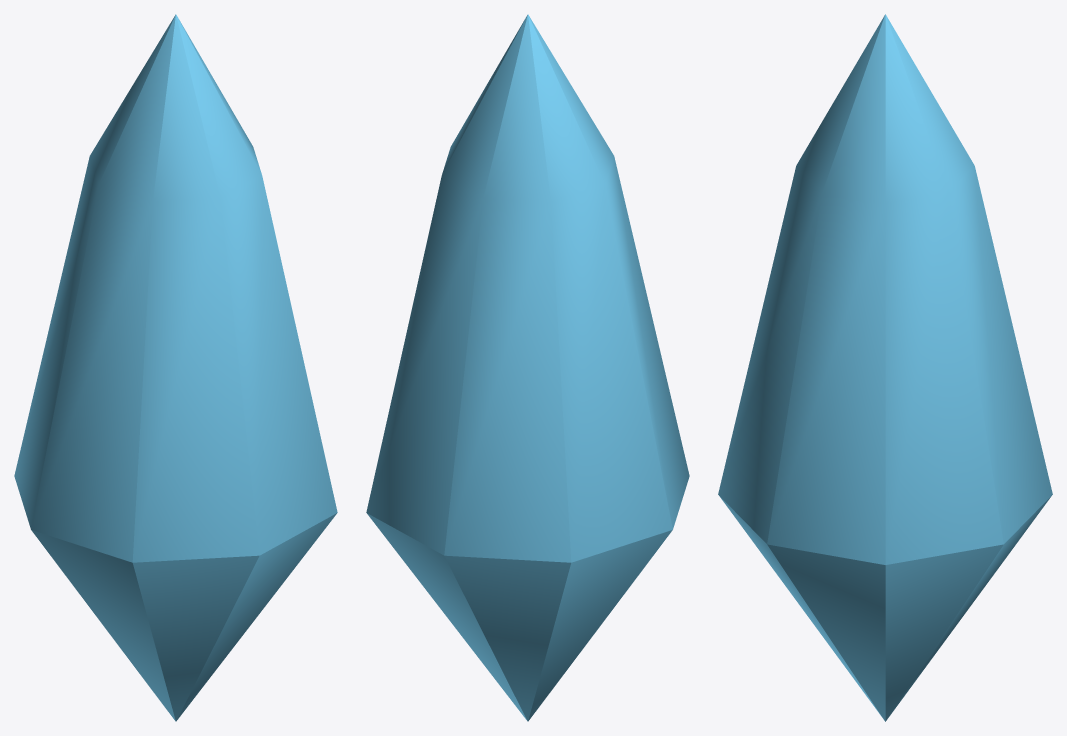
The picture shows the model from 3 angles, left to right: view 1: azimuth 30°, elevation 25°; view 2: azimuth 150°, elevation 25°; view 3: azimuth 270°, elevation 25°; orthographic projection.
Bounding box in the file's own units: 0.6 × 1.4 × 0.6.
